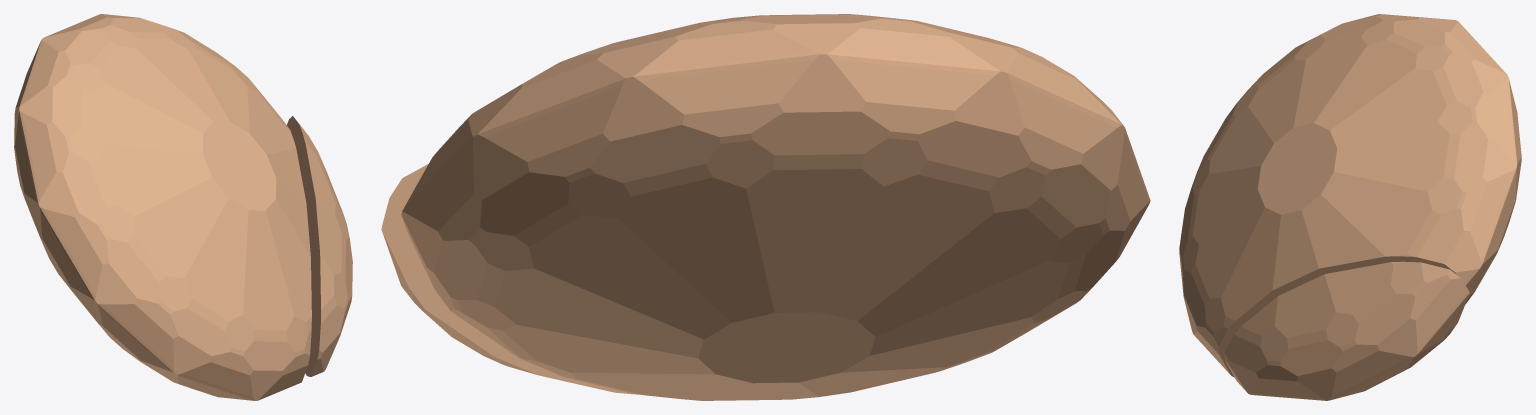
File: gem_332092.gltf
The picture shows the model from 3 angles, left to right: view 1: azimuth 30°, elevation 25°; view 2: azimuth 150°, elevation 25°; view 3: azimuth 270°, elevation 25°; orthographic projection. The views are drawn at different scales.
Bounding box in the file's own units: 2 × 1.66 × 1.72.
